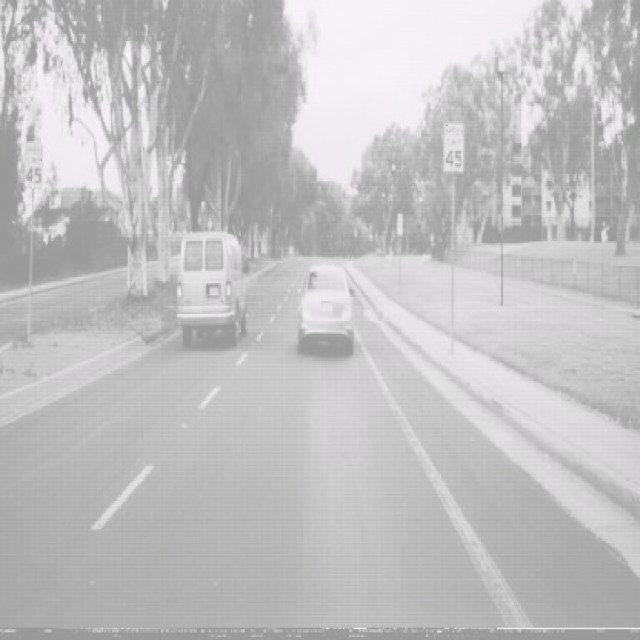speedLimit45: (443, 120, 465, 173), (23, 142, 44, 190)
